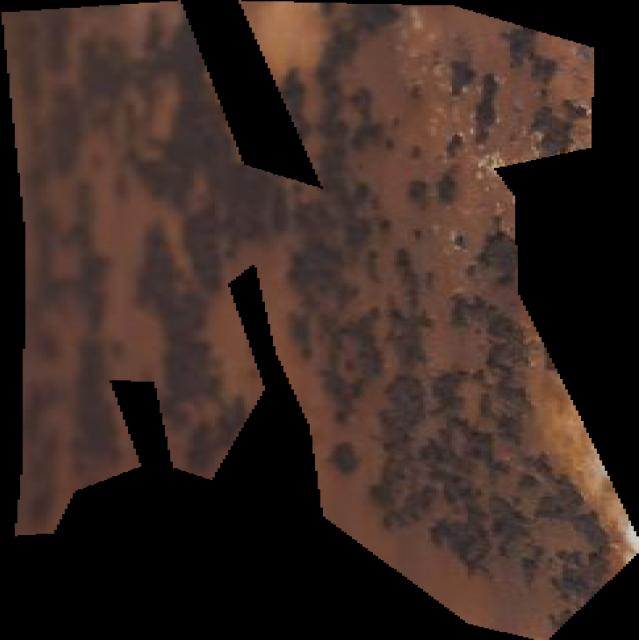Pitting Corrosion: (1, 0, 639, 640)
